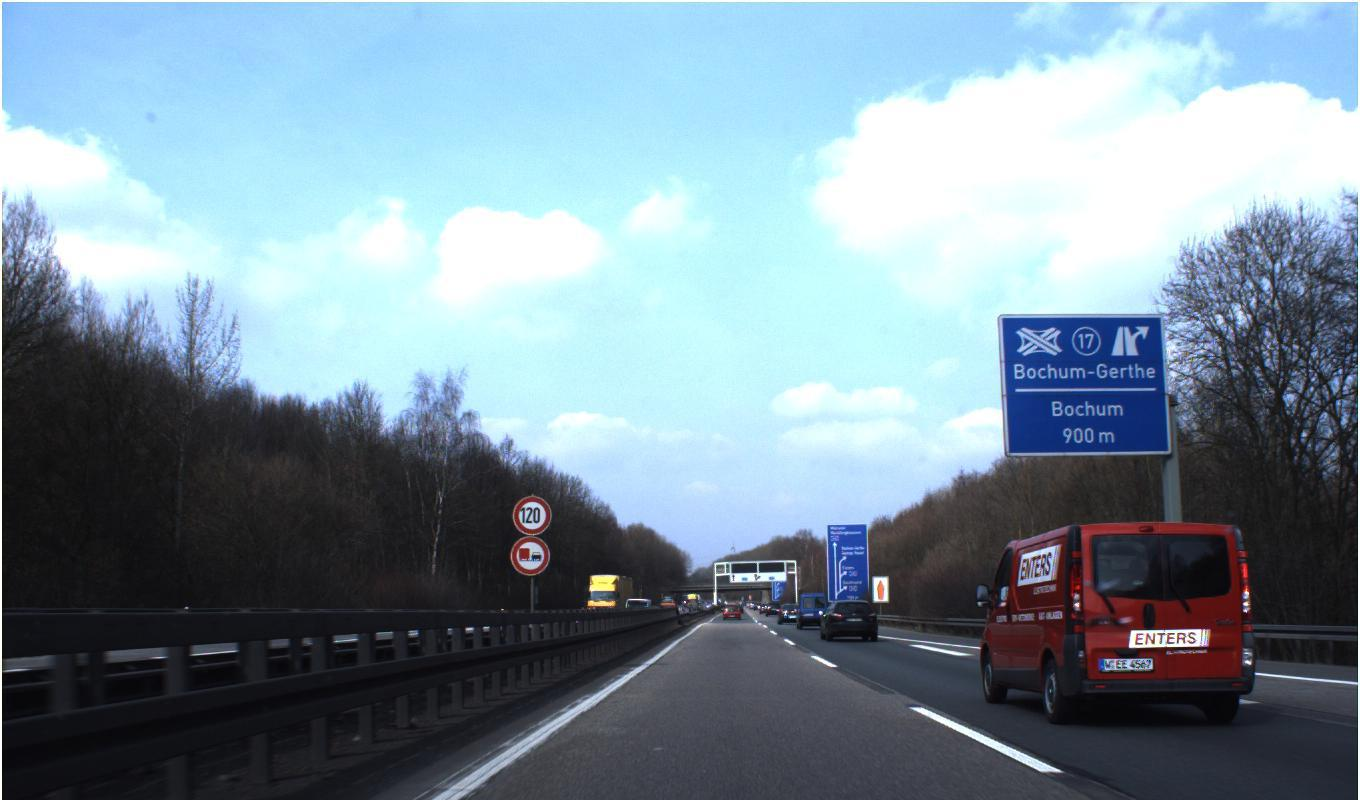10: (509, 535, 550, 576)
speed limit 120 prohibitory: (511, 494, 552, 536)
